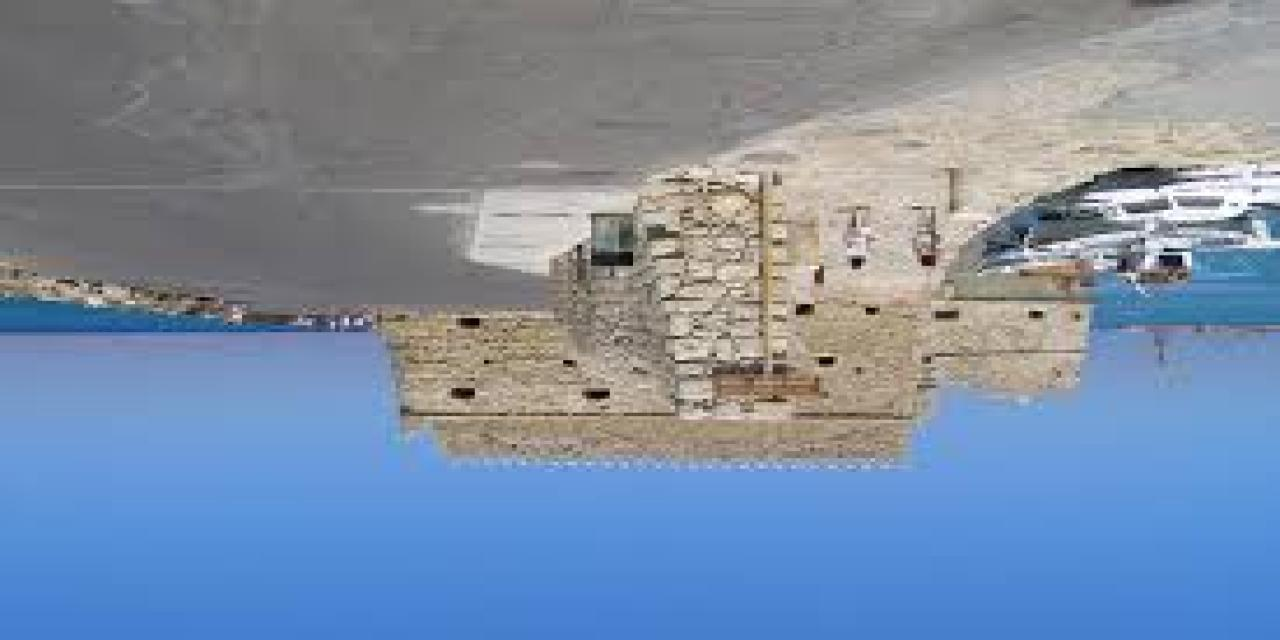Kules: (382, 299, 1097, 476)
